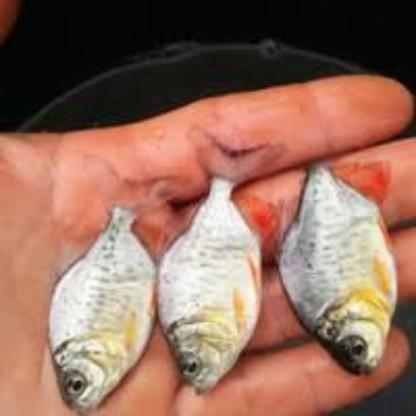ikan-pacu: (156, 150, 270, 388), (274, 152, 396, 374), (46, 185, 154, 409)
